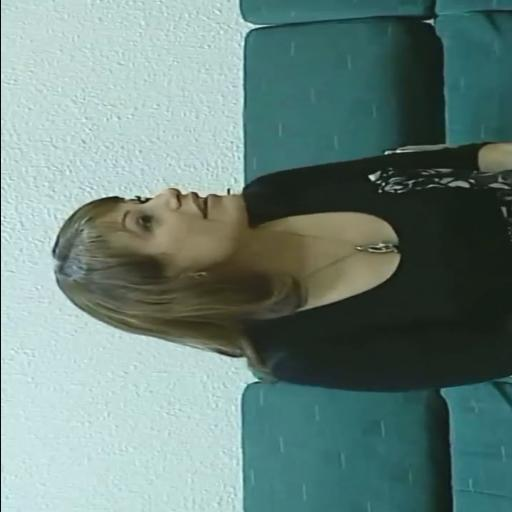zeineb: (100, 189, 286, 277)
